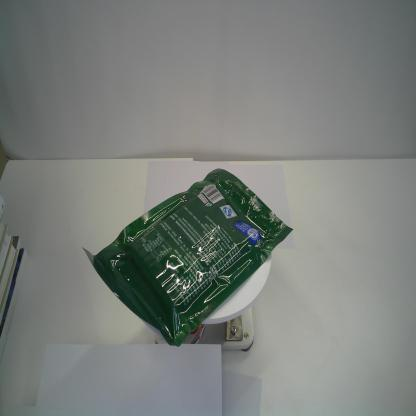Dried Food: (81, 168, 294, 347)
